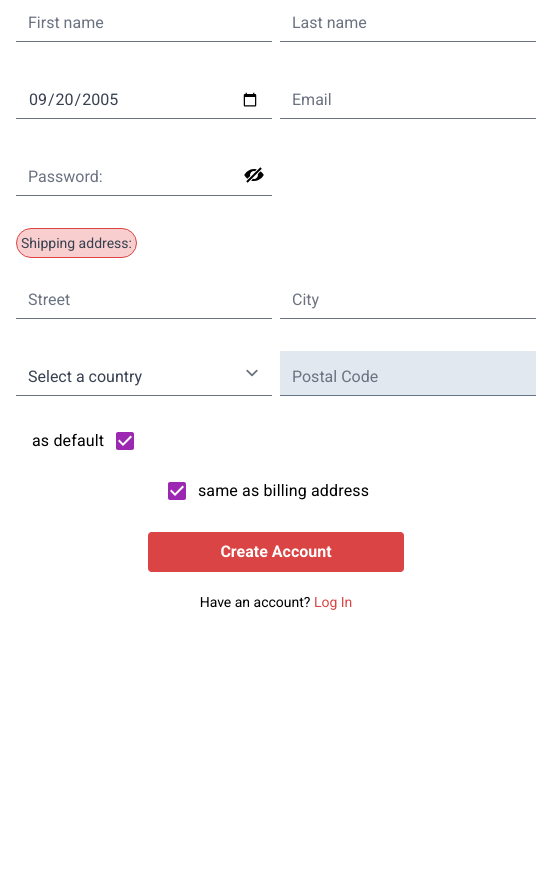
Test: RegistrationForm renders correctly › expands when billing address checkbox is unchecked
The width and height of the screenshot is (553, 869).
Expected: the text "Billing address:" is not shown
Click the checkbox labelled "same as billing address": (267, 491) [165,479,369,503]
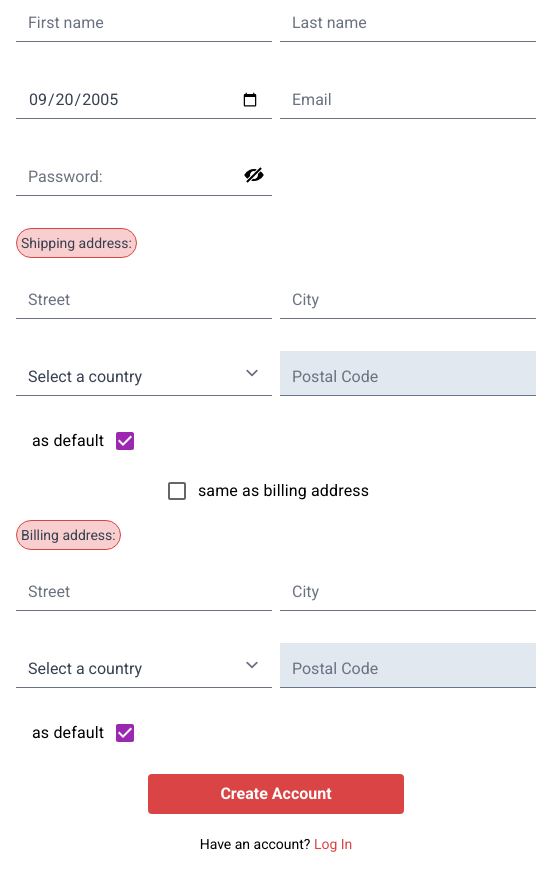
Result: the text "Billing address:" is shown at [16,520,121,550]
